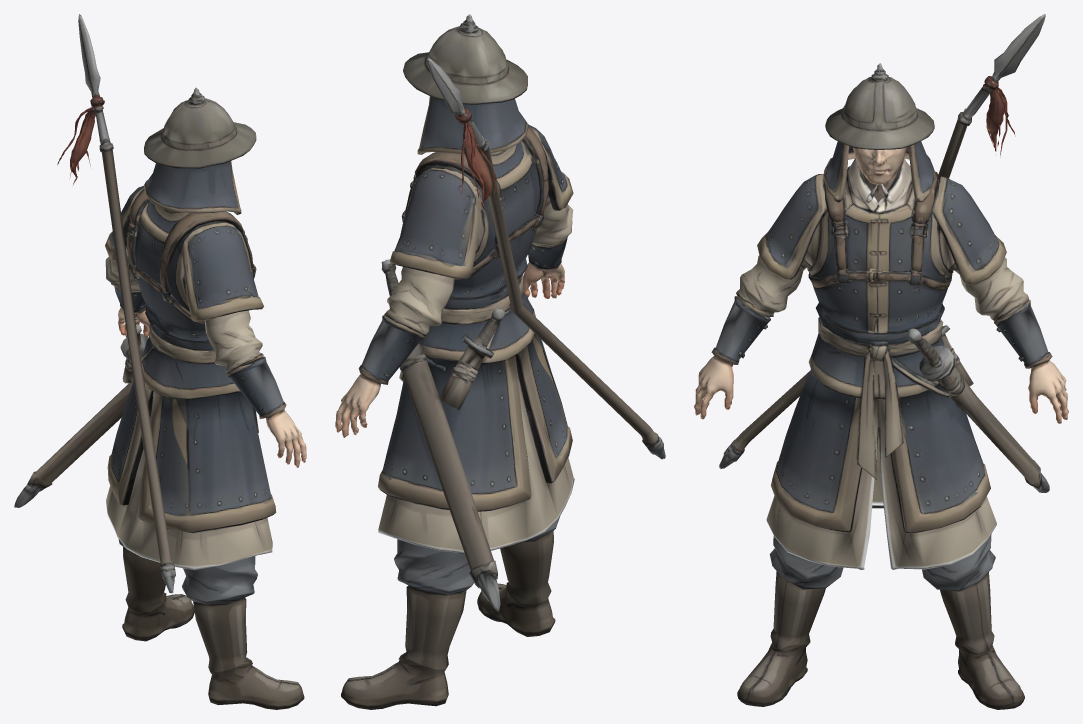
File: bbdff339-24f3-496d-a02e-cad0b01d4dfb_model.glb
3 views of the same model, side by side, from view 1: azimuth 30°, elevation 25°; view 2: azimuth 150°, elevation 25°; view 3: azimuth 270°, elevation 25° (orthographic). The views are drawn at different scales.
Parts seen in each view (by area): view 1: tripo_node_bbdff339-24f3-496d-a02e-cad0b01d4dfb; view 2: tripo_node_bbdff339-24f3-496d-a02e-cad0b01d4dfb; view 3: tripo_node_bbdff339-24f3-496d-a02e-cad0b01d4dfb.
Boxes of the visible parts, <box> form: tripo_node_bbdff339-24f3-496d-a02e-cad0b01d4dfb: <box>14,14,306,709</box>; tripo_node_bbdff339-24f3-496d-a02e-cad0b01d4dfb: <box>335,14,665,709</box>; tripo_node_bbdff339-24f3-496d-a02e-cad0b01d4dfb: <box>694,14,1068,709</box>.
Bounding box in the file's own units: 0.5154 × 1.8 × 0.9401.
Materials: 1 (1 with a texture image).
